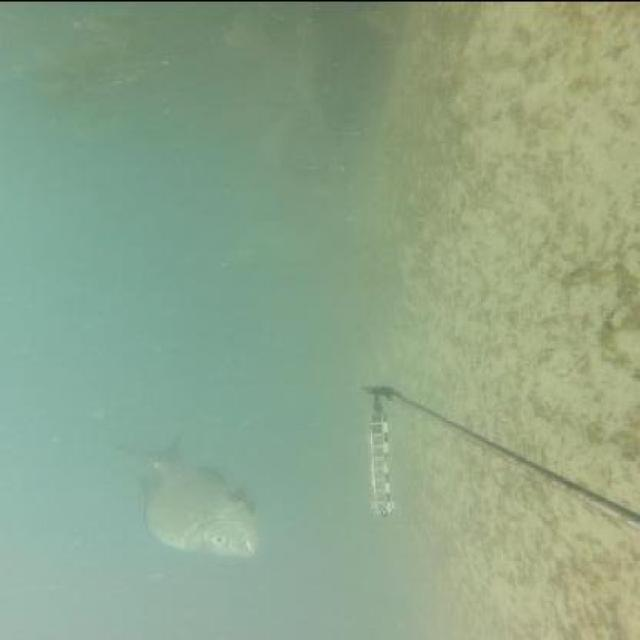acanthopagrus_palmaris: (113, 435, 269, 556)
